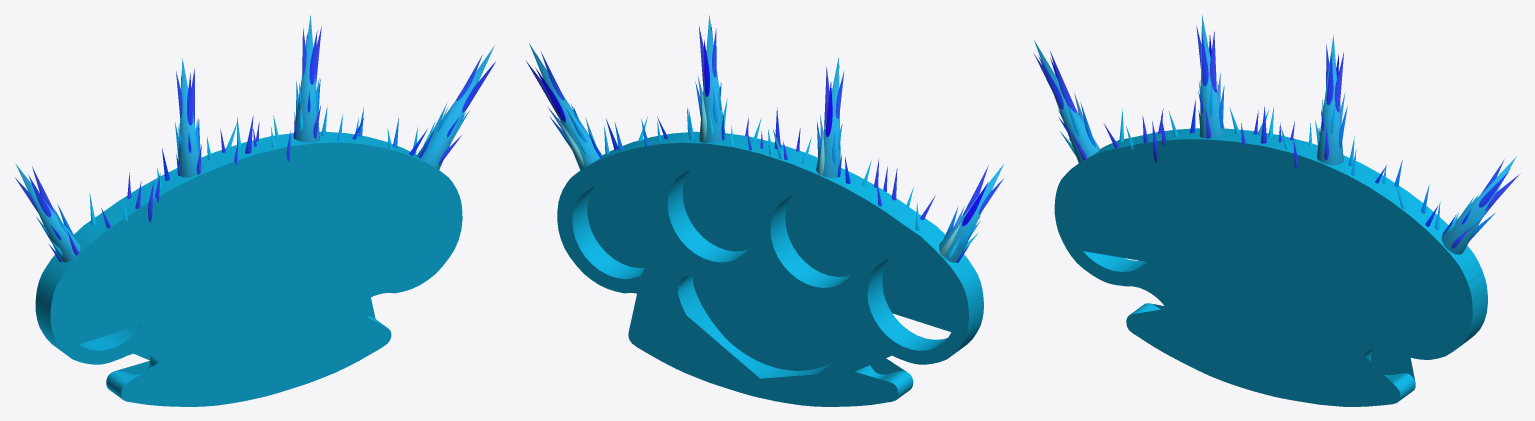
Rendered from HieloModelo.fbx.
3 views of the same model, side by side, from view 1: azimuth 30°, elevation 25°; view 2: azimuth 150°, elevation 25°; view 3: azimuth 330°, elevation 25° (orthographic).
Visible parts, largest first — view 1: BezierCurve, Cone, Cone.016, Cone.032, Cone.048; view 2: BezierCurve, Cone, Cone.016, Cone.032, Cone.048; view 3: BezierCurve, Cone.016, Cone, Cone.048, Cone.032.
Boxes of the visible parts, box(x1,y1,x2,y2) form: BezierCurve: box(35, 131, 462, 406); Cone: box(417, 45, 494, 169); Cone.016: box(293, 15, 319, 142); Cone.032: box(178, 58, 202, 177); Cone.048: box(15, 163, 80, 262); BezierCurve: box(557, 131, 983, 406); Cone: box(529, 43, 602, 169); Cone.016: box(699, 15, 725, 142); Cone.032: box(816, 58, 840, 190); Cone.048: box(939, 163, 1004, 262); BezierCurve: box(1054, 128, 1487, 406); Cone.016: box(1316, 34, 1343, 165); Cone: box(1441, 156, 1516, 254); Cone.048: box(1034, 40, 1100, 163); Cone.032: box(1199, 15, 1224, 138).
Size of the model in its own units: 763 by 552 by 52.19.
